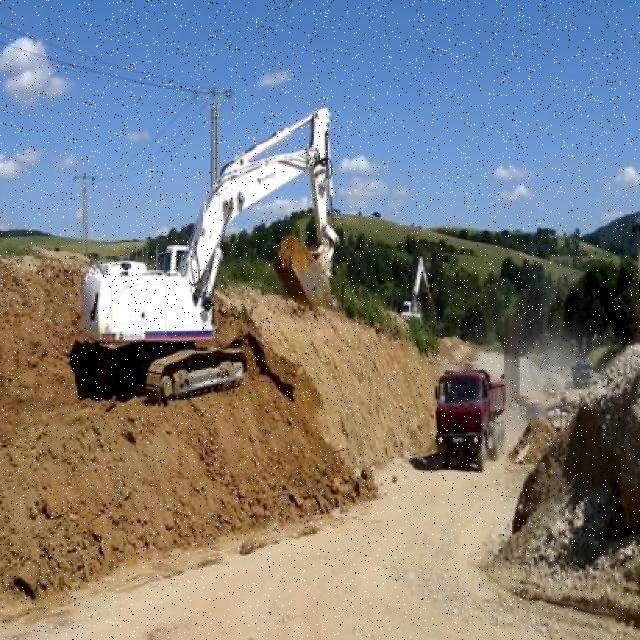Dump Truck: (430, 364, 506, 472), (568, 359, 592, 387)
Excavator: (74, 80, 342, 402), (398, 250, 438, 330)
